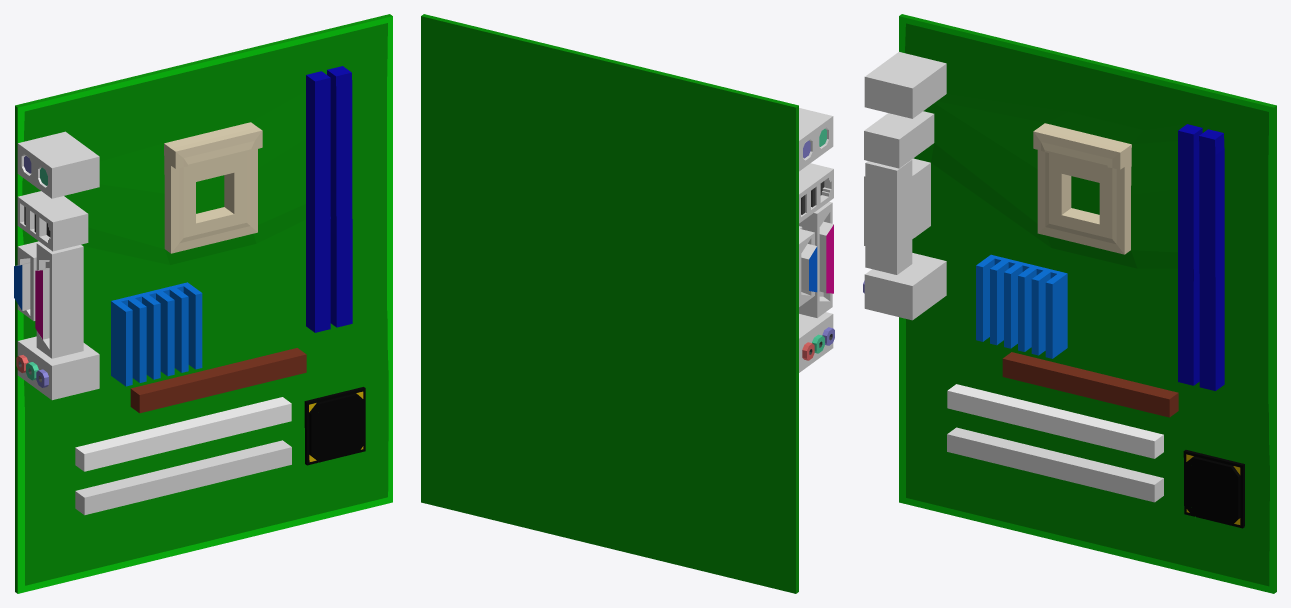
Rendered from mobo_socket-A_1-amd.fbx.
The picture shows the model from 3 angles, left to right: view 1: azimuth 30°, elevation 25°; view 2: azimuth 150°, elevation 25°; view 3: azimuth 330°, elevation 25°; orthographic projection.
Visible parts, largest first — view 1: Plane, Plane.001; view 2: Plane; view 3: Plane, Plane.001.
Boxes of the visible parts, <box> form: Plane: <box>14,14,392,593</box>; Plane.001: <box>111,282,202,386</box>; Plane: <box>421,14,834,593</box>; Plane: <box>863,14,1276,593</box>; Plane.001: <box>976,254,1067,358</box>.
Size of the model in its own units: 160 by 195 by 27.57.
